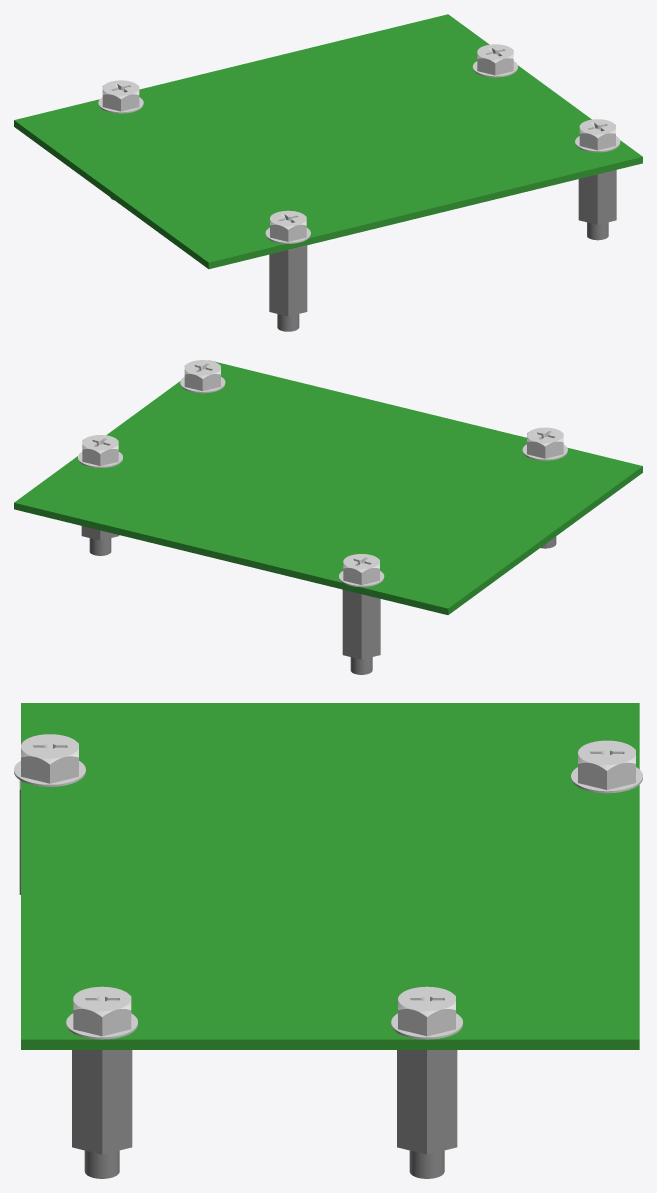
The picture shows the model from 3 angles, top to bottom: view 1: azimuth 30°, elevation 25°; view 2: azimuth 150°, elevation 25°; view 3: azimuth 270°, elevation 25°; orthographic projection. The views are drawn at different scales.
Parts seen in each view (by area): view 1: out-board, out-standoff_001, out-standoff_002, out-screw_003, out-screw_002, out-screw_000, out-screw_001; view 2: out-board, out-standoff_003, out-screw_001, out-screw_002, out-screw_003, out-screw_000, out-standoff_000; view 3: out-board, out-standoff_002, out-standoff_000, out-screw_002, out-screw_003, out-screw_000, out-screw_001.
Boxes of the visible parts, <box> form: out-board: <box>14,14,642,269</box>; out-standoff_001: <box>269,245,307,331</box>; out-standoff_002: <box>578,170,616,240</box>; out-screw_003: <box>98,80,143,113</box>; out-screw_002: <box>575,119,620,152</box>; out-screw_000: <box>472,44,517,77</box>; out-screw_001: <box>265,210,310,243</box>; out-board: <box>14,360,642,614</box>; out-standoff_003: <box>342,589,380,674</box>; out-screw_001: <box>522,427,567,460</box>; out-screw_002: <box>180,360,225,393</box>; out-screw_003: <box>339,554,384,586</box>; out-screw_000: <box>78,435,122,467</box>; out-standoff_000: <box>81,526,119,555</box>; out-board: <box>21,703,639,1049</box>; out-standoff_002: <box>72,1050,132,1178</box>; out-standoff_000: <box>397,1050,457,1178</box>; out-screw_002: <box>66,986,137,1039</box>; out-screw_003: <box>571,740,642,793</box>; out-screw_000: <box>391,986,462,1039</box>; out-screw_001: <box>14,734,85,786</box>.
Bounding box in the file's own units: 0.0686 × 0.0164 × 0.0542.
